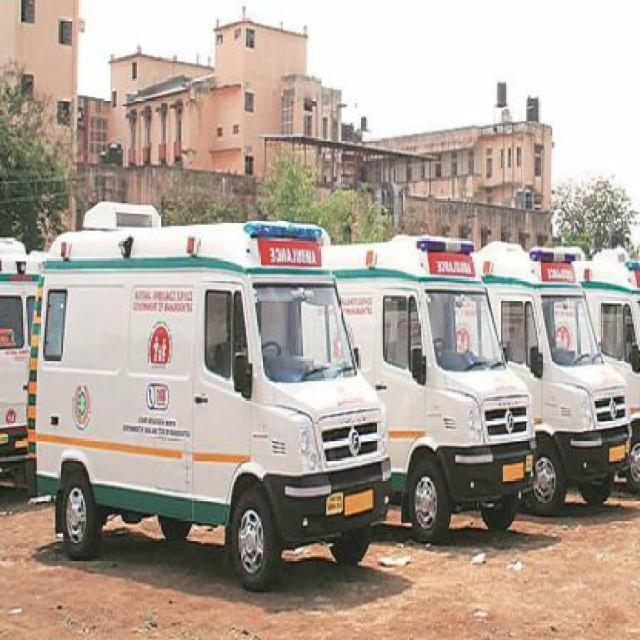Ambulance: (0, 198, 638, 596), (0, 453, 638, 638), (314, 232, 538, 545), (468, 238, 636, 518), (0, 233, 43, 504)
